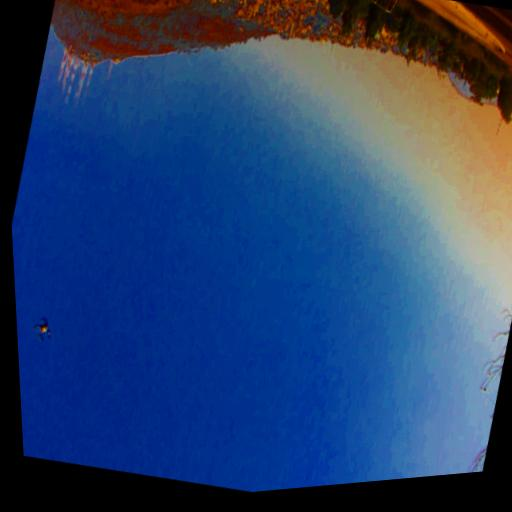drones: (27, 309, 57, 346)
